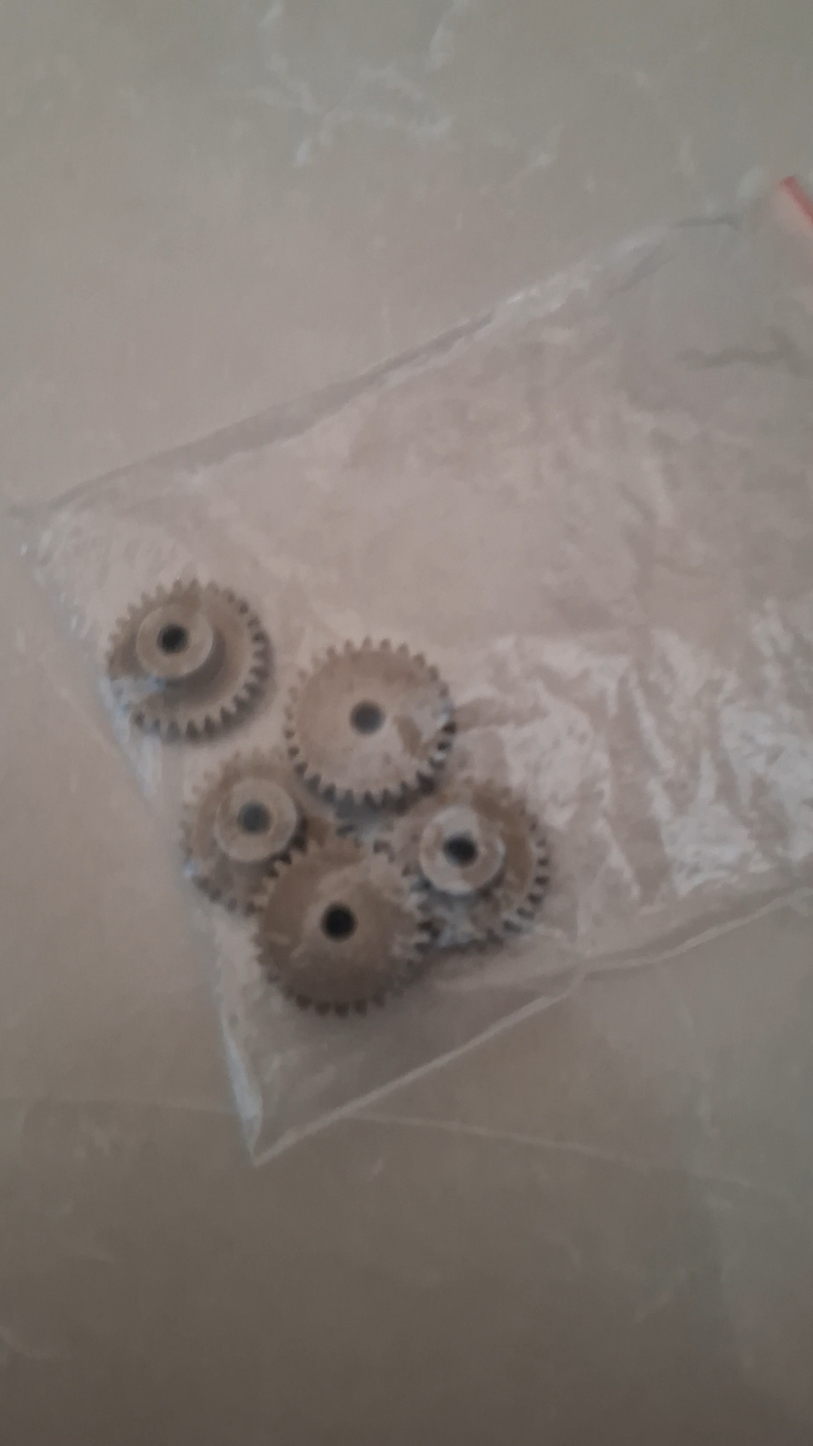spur gear: (257, 837, 432, 1012), (286, 639, 453, 806), (379, 783, 549, 946), (107, 582, 271, 739), (182, 753, 308, 912)
